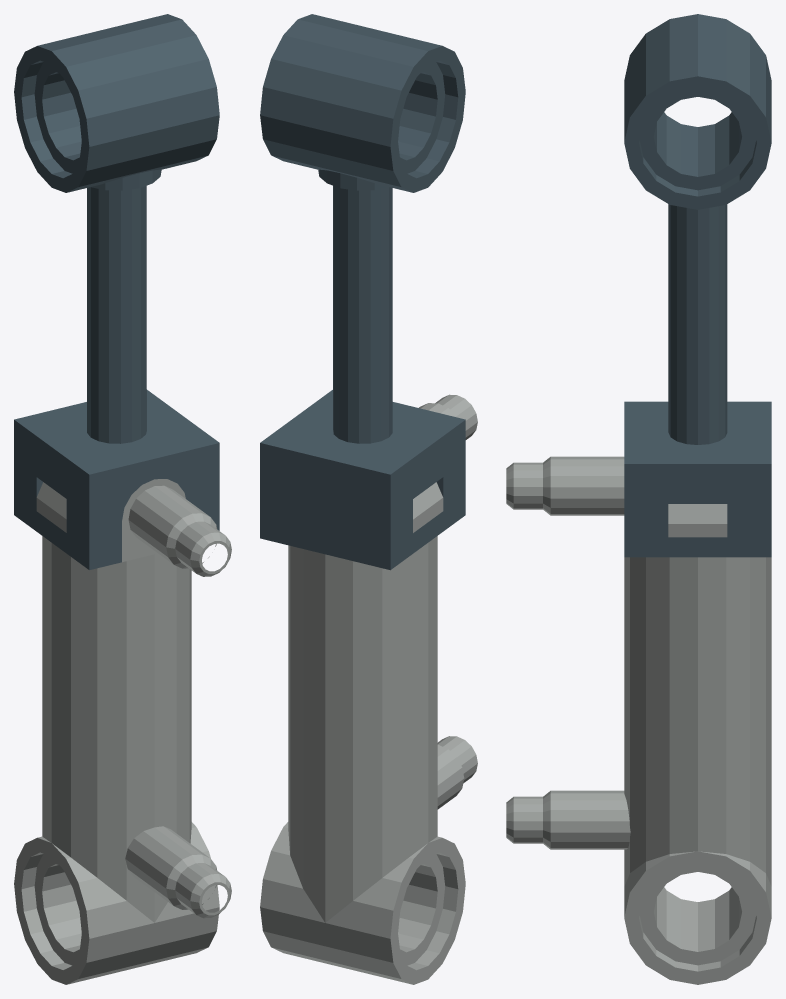
3 views of the same model, side by side, from view 1: azimuth 30°, elevation 25°; view 2: azimuth 150°, elevation 25°; view 3: azimuth 270°, elevation 25° (orthographic). The views are drawn at different scales.
Visible parts, largest first — view 1: world; view 2: world; view 3: world.
Boxes of the visible parts, x1,y1,x2,y2 form: world: [14, 14, 231, 984]; world: [260, 14, 477, 984]; world: [506, 14, 771, 984].
Size of the model in its own units: 0.008 by 0.0544 by 0.0144.
